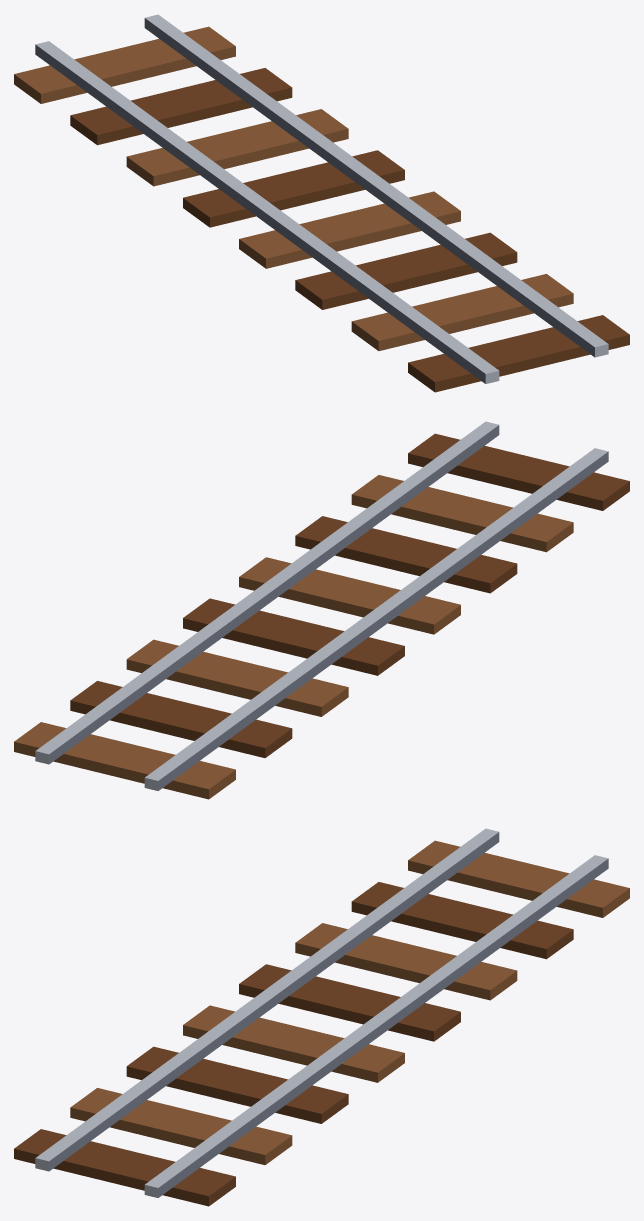
Rendered from railroad-straight.glb.
3 renders of one model, top to bottom at view 1: azimuth 30°, elevation 25°; view 2: azimuth 150°, elevation 25°; view 3: azimuth 330°, elevation 25°, orthographic.
Parts seen in each view (by area): view 1: railroad-straight; view 2: railroad-straight; view 3: railroad-straight.
Boxes of the visible parts, bbox=[...] form: railroad-straight: bbox=[14, 14, 629, 392]; railroad-straight: bbox=[14, 421, 629, 799]; railroad-straight: bbox=[14, 828, 629, 1206].
Size of the model in its own units: 1 by 0.1 by 4.
1 material, 1 textured.
